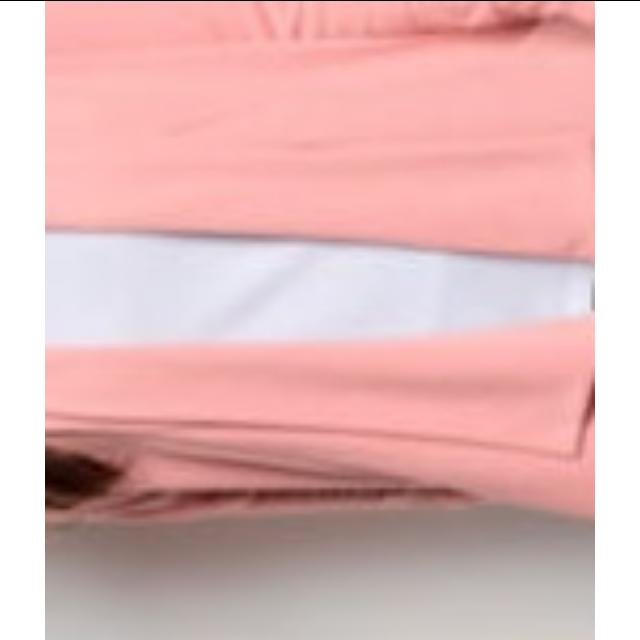polyester: (45, 1, 595, 496)
